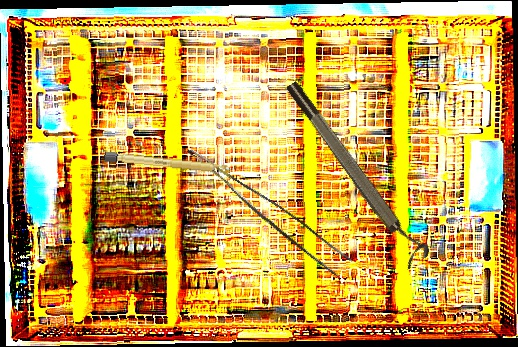Fixation Ring: (281, 72, 434, 271)
Scalpel Handle: (103, 151, 232, 175)
Tissue Forceps: (174, 147, 356, 279)
